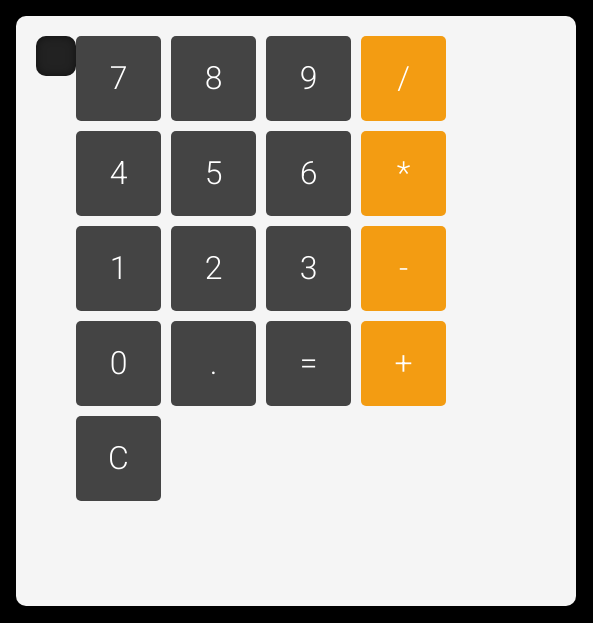
Test: performs addition
The width and height of the screenshot is (593, 623).
Click the button "1" at (118, 268), box [76, 226, 161, 311]
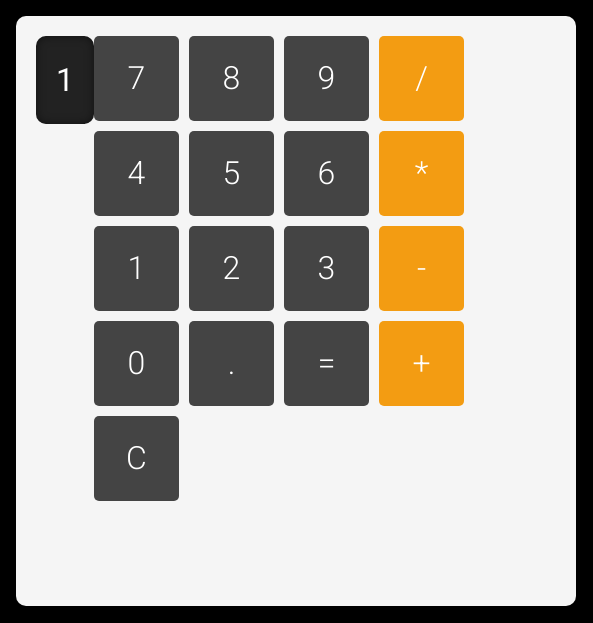
Click the button "+" at (422, 364), box [379, 321, 464, 406]
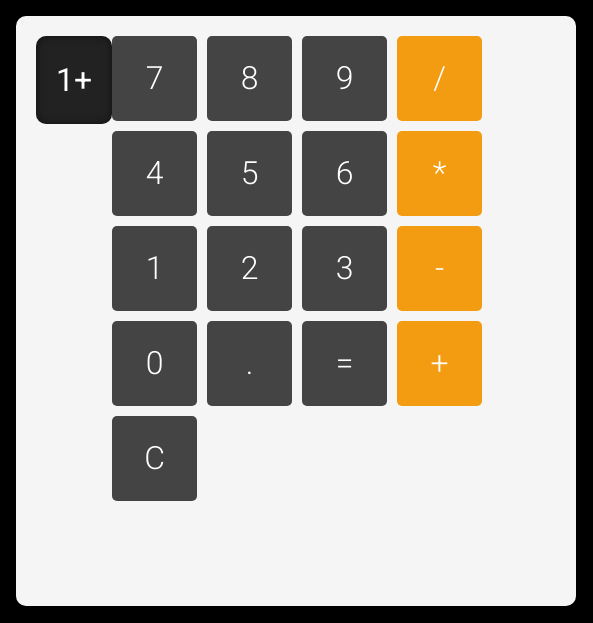
Click the button "1" at (155, 268), box [112, 226, 197, 311]
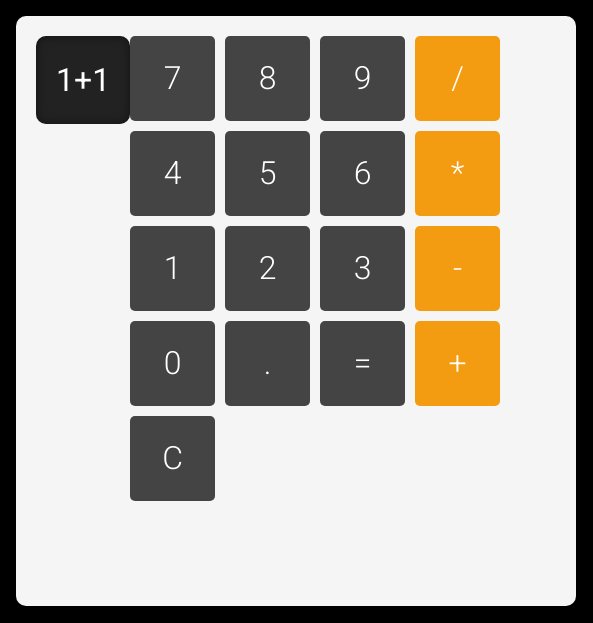
Click the button "=" at (363, 364), box [320, 321, 405, 406]
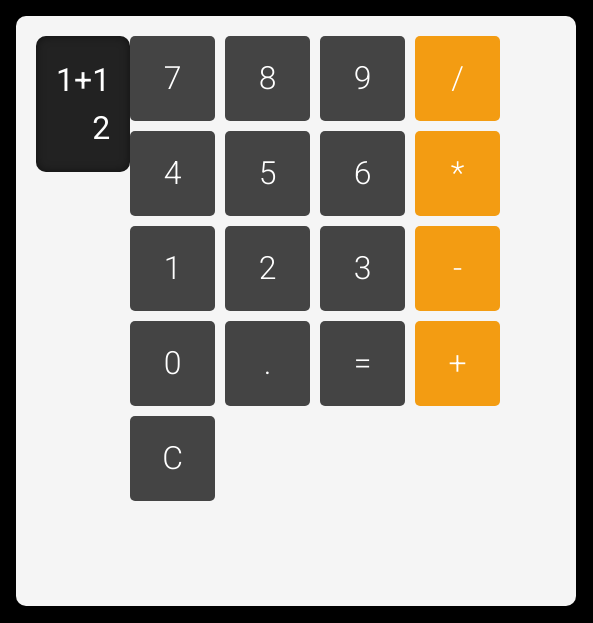
Expected: the text "2" is shown, [92, 109, 110, 147]
